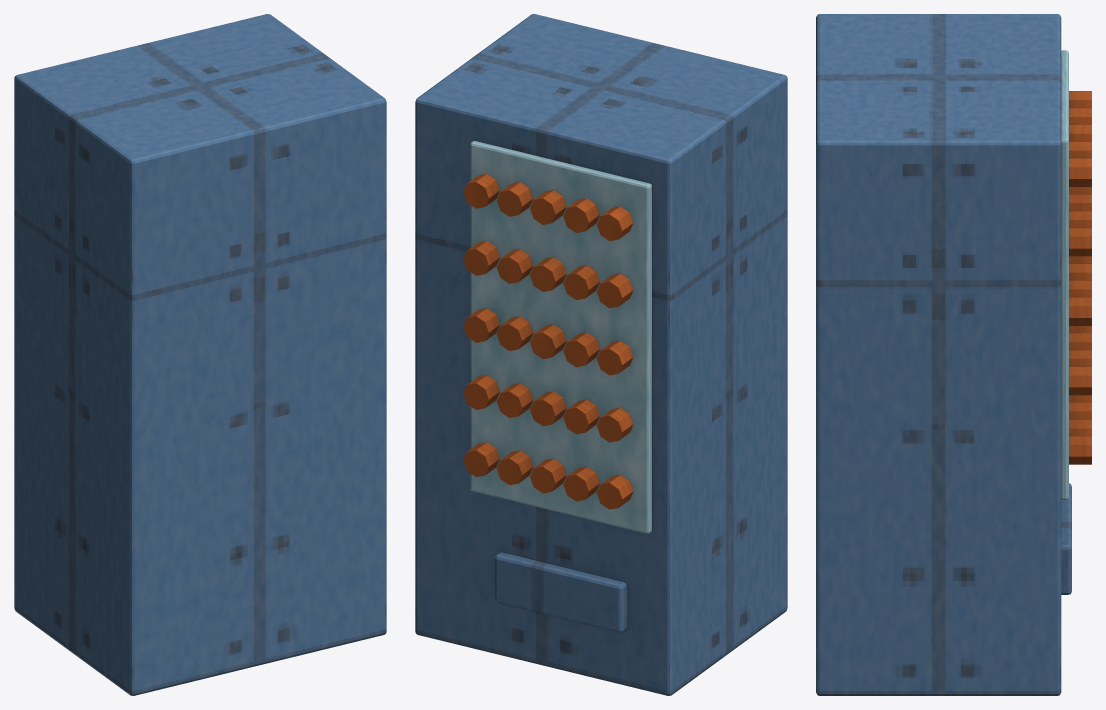
File: base_vending_machine.glb
3 renders of one model, left to right at view 1: azimuth 30°, elevation 25°; view 2: azimuth 150°, elevation 25°; view 3: azimuth 270°, elevation 25°, orthographic. The views are drawn at different scales.
Visible parts, largest first — view 1: base_vending_machine; view 2: base_vending_machine; view 3: base_vending_machine.
Part boxes in pixels (<box>): base_vending_machine: <box>14,14,386,695</box>; base_vending_machine: <box>415,14,787,695</box>; base_vending_machine: <box>816,14,1091,695</box>.
Size of the model in its own units: 1 by 2 by 0.9.
3 materials, 3 textured.
